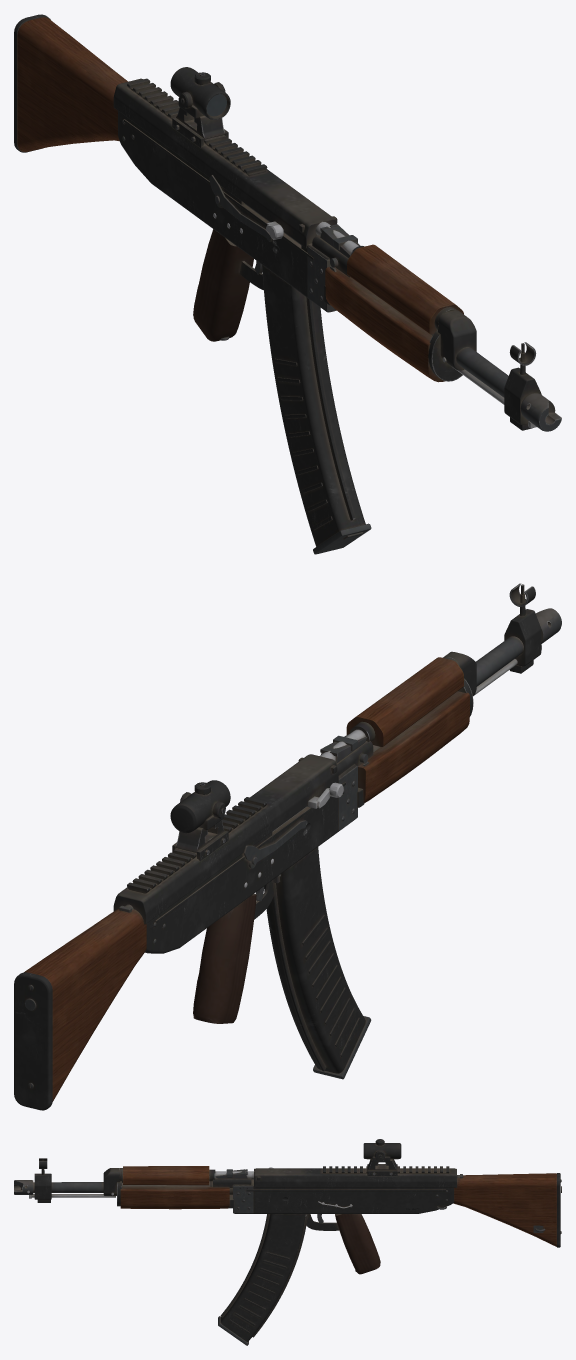
File: rifle.glb
The picture shows the model from 3 angles, top to bottom: view 1: azimuth 30°, elevation 25°; view 2: azimuth 150°, elevation 25°; view 3: azimuth 270°, elevation 25°; orthographic projection. The views are drawn at different scales.
Parts seen in each view (by area): view 1: mesh_body, mesh_mag, mesh_optic, mesh_selector; view 2: mesh_body, mesh_mag, mesh_optic, mesh_selector; view 3: mesh_body, mesh_mag, mesh_optic.
Part boxes in pixels (x1,y1,x2,y2): mesh_body: [14, 14, 561, 431]; mesh_mag: [262, 265, 371, 554]; mesh_optic: [170, 67, 230, 147]; mesh_selector: [209, 175, 271, 241]; mesh_body: [14, 583, 561, 1110]; mesh_mag: [264, 847, 371, 1079]; mesh_optic: [170, 780, 230, 861]; mesh_selector: [243, 820, 306, 864]; mesh_body: [14, 1158, 561, 1274]; mesh_mag: [218, 1214, 306, 1345]; mesh_optic: [363, 1139, 401, 1175].
Size of the model in its own units: 0.0592 by 0.368 by 0.904.
7 materials, 6 textured.
